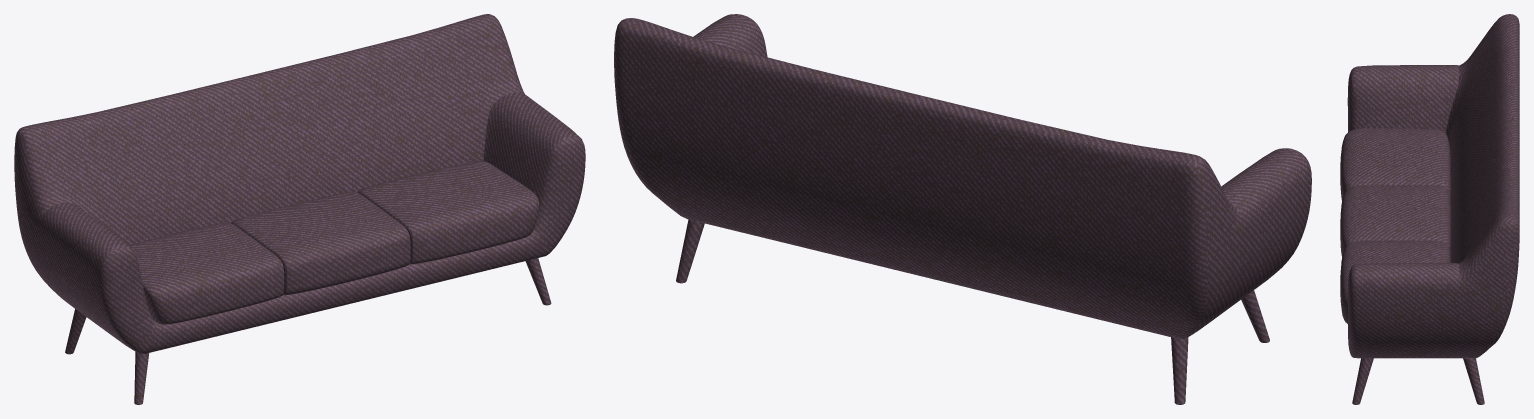
The model's file is purple.glb.
3 views of the same model, side by side, from view 1: azimuth 30°, elevation 25°; view 2: azimuth 150°, elevation 25°; view 3: azimuth 270°, elevation 25° (orthographic). The views are drawn at different scales.
Visible parts, largest first — view 1: sofa_mesh_n3d, pillow_003_mesh_n3d, pillow_001_mesh_n3d, pillow_002_mesh_n3d, base_003_mesh_n3d, base_001_mesh_n3d; view 2: sofa_mesh_n3d, base_004_mesh_n3d, base_002_mesh_n3d, base_003_mesh_n3d; view 3: sofa_mesh_n3d, pillow_002_mesh_n3d, pillow_001_mesh_n3d, pillow_003_mesh_n3d, base_002_mesh_n3d, base_001_mesh_n3d.
Boxes of the visible parts, bbox=[...] form: sofa_mesh_n3d: bbox=[14, 14, 585, 354]; pillow_003_mesh_n3d: bbox=[357, 161, 539, 264]; pillow_001_mesh_n3d: bbox=[231, 192, 410, 295]; pillow_002_mesh_n3d: bbox=[129, 222, 284, 324]; base_003_mesh_n3d: bbox=[134, 351, 149, 404]; base_001_mesh_n3d: bbox=[525, 258, 551, 305]; sofa_mesh_n3d: bbox=[614, 14, 1311, 339]; base_004_mesh_n3d: bbox=[1171, 337, 1188, 404]; base_002_mesh_n3d: bbox=[676, 219, 704, 283]; base_003_mesh_n3d: bbox=[1241, 290, 1269, 342]; sofa_mesh_n3d: bbox=[1347, 14, 1519, 358]; pillow_002_mesh_n3d: bbox=[1340, 128, 1450, 200]; pillow_001_mesh_n3d: bbox=[1340, 185, 1450, 257]; pillow_003_mesh_n3d: bbox=[1340, 241, 1450, 323]; base_002_mesh_n3d: bbox=[1463, 358, 1484, 404]; base_001_mesh_n3d: bbox=[1352, 358, 1373, 404].
Bounding box in the file's own units: 2.39 × 1.03 × 0.8453.
Materials: 1 (1 with a texture image).
